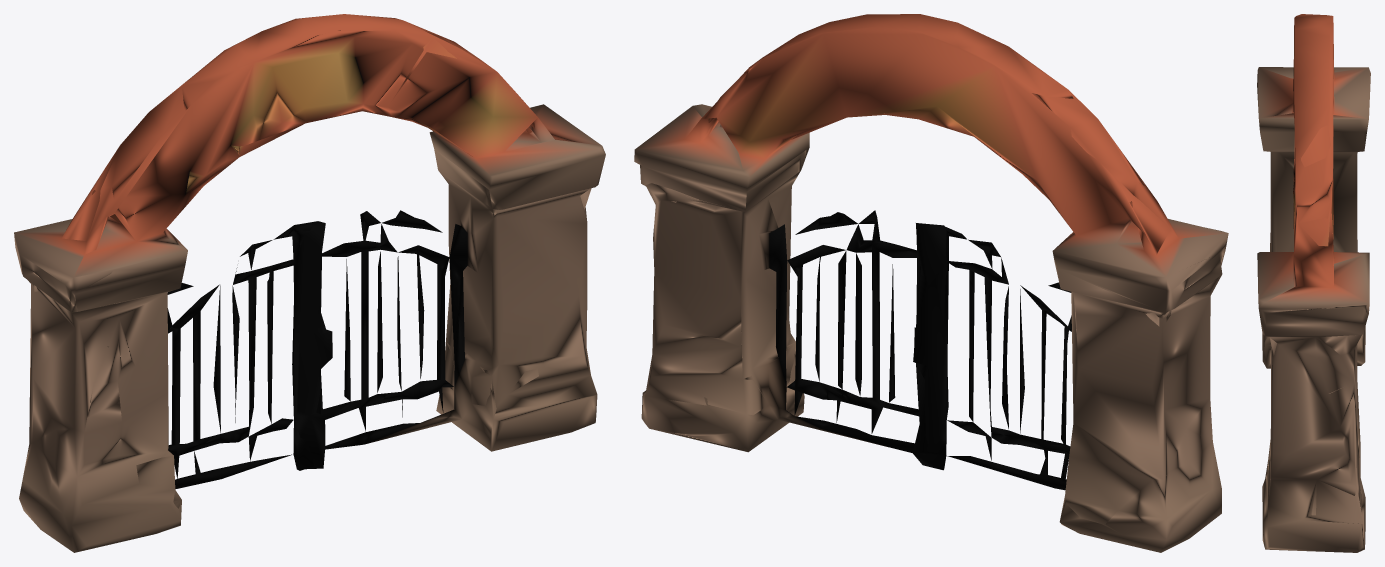
The model's file is gen3d-zoo-gate-lod1.glb.
The picture shows the model from 3 angles, left to right: view 1: azimuth 30°, elevation 25°; view 2: azimuth 150°, elevation 25°; view 3: azimuth 270°, elevation 25°; orthographic projection. The views are drawn at different scales.
Parts seen in each view (by area): view 1: part_0; view 2: part_0; view 3: part_0.
Part boxes in pixels (x1=…): part_0: x1=14, y1=14, x2=605, y2=552; part_0: x1=634, y1=14, x2=1228, y2=552; part_0: x1=1257, y1=14, x2=1370, y2=552.
Bounding box in the file's own units: 1.25 × 0.9999 × 0.2564.
